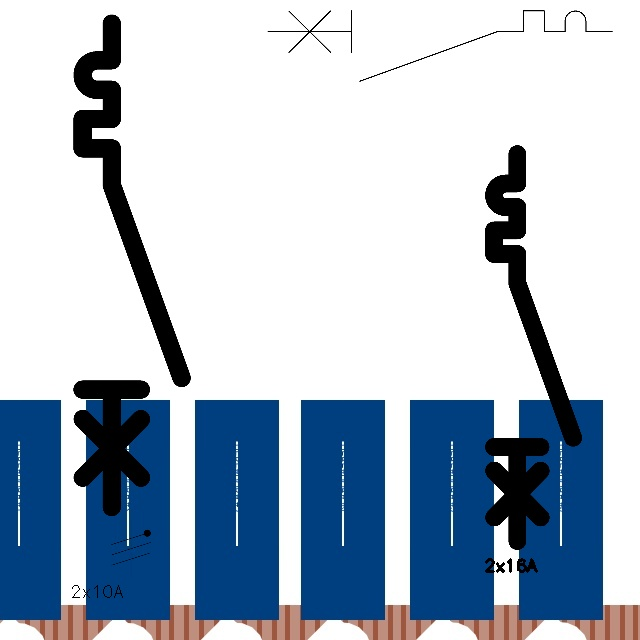interruptor_termomagnetico: (70, 11, 194, 520), (484, 144, 583, 551), (259, 2, 621, 90)
